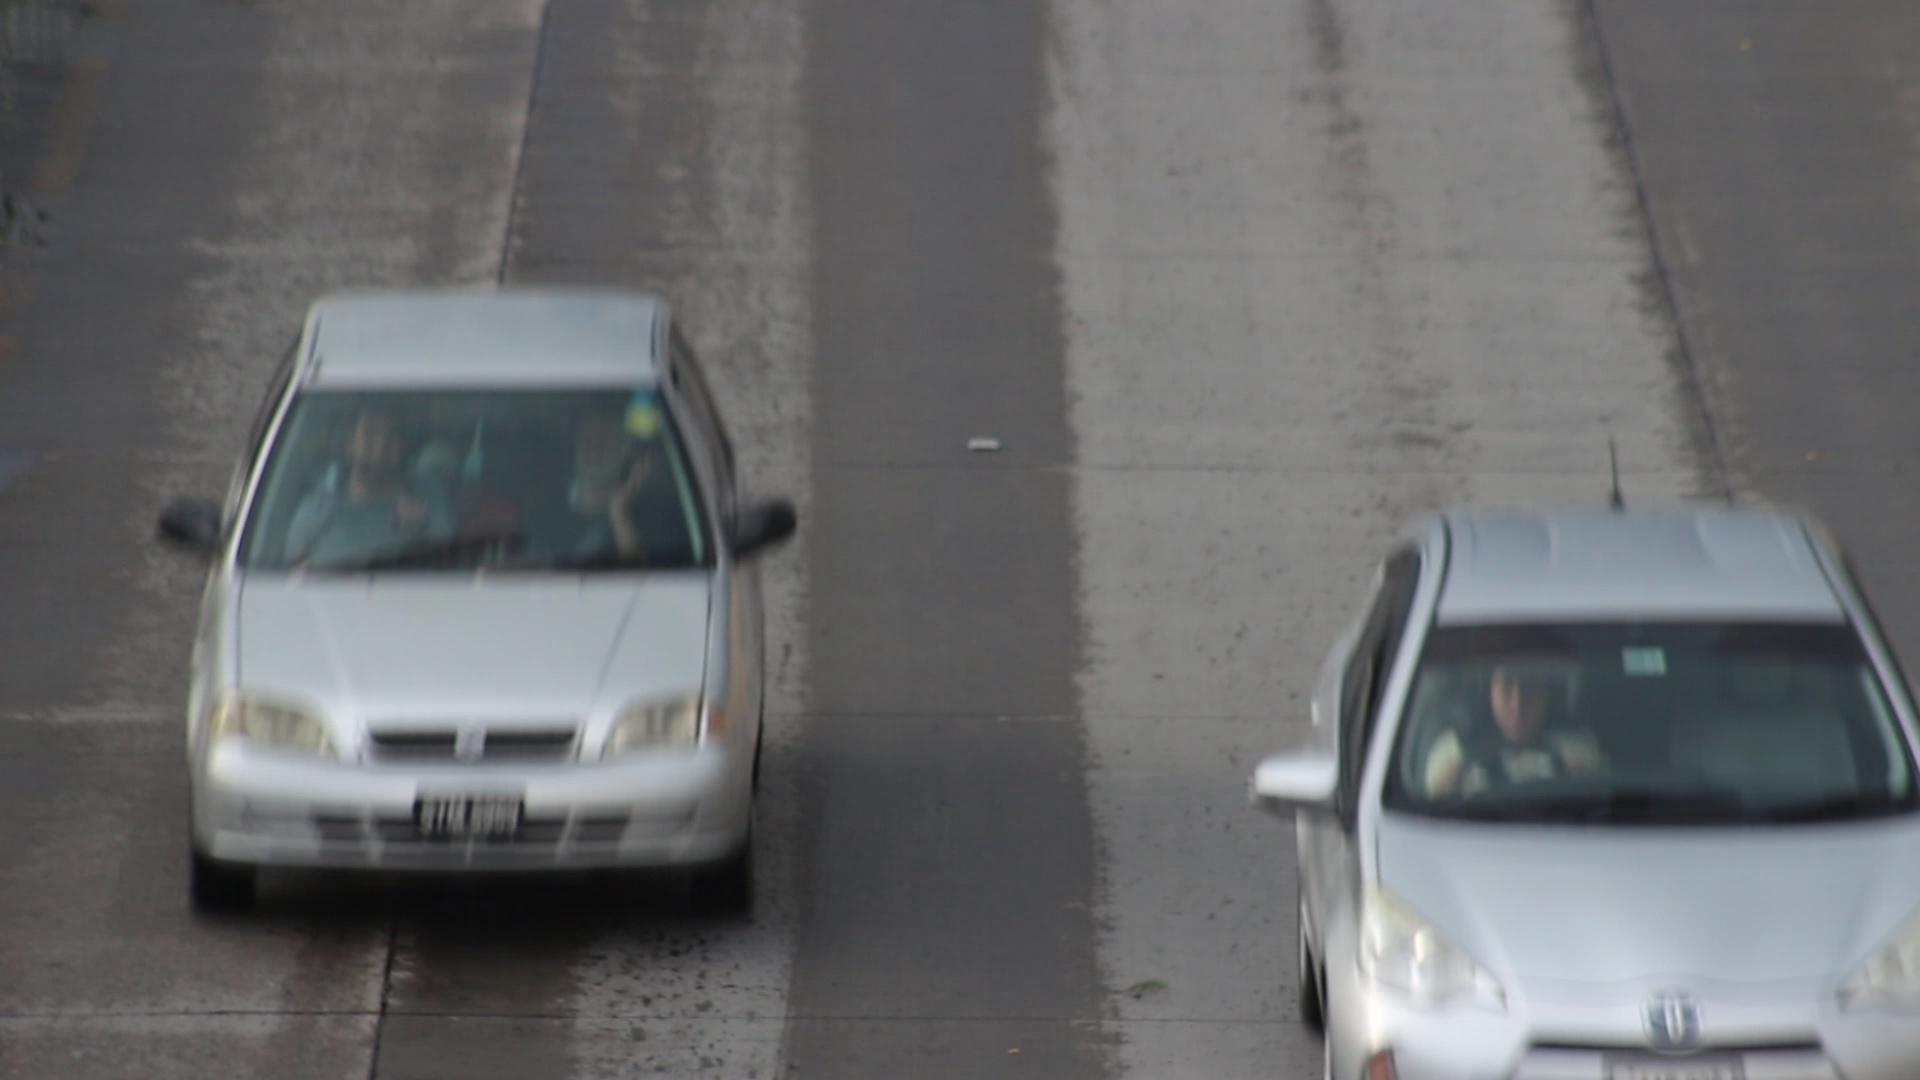windshield: (1367, 600, 1920, 816), (214, 364, 724, 587)
